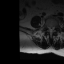CCS_normal: (50, 25, 52, 34)
LFS_normal: (53, 24, 55, 30)
LLS_normal: (52, 24, 53, 33)
RFS_stenosis: (46, 23, 48, 30)
RLS_normal: (48, 24, 50, 33)
